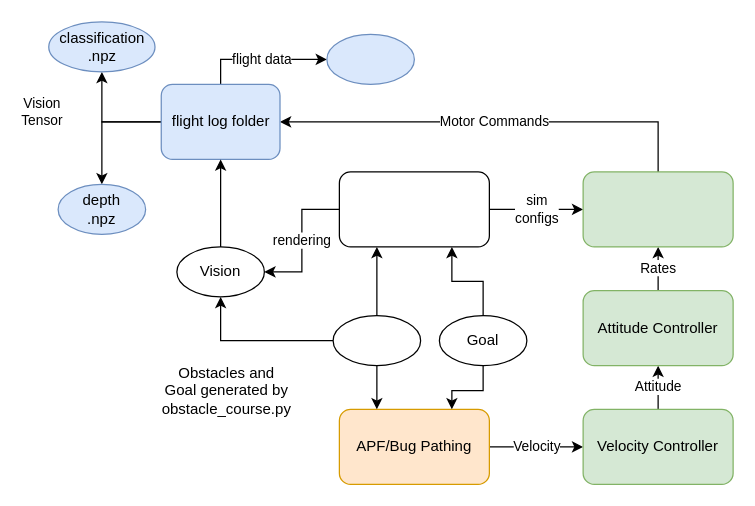
The diagram is 755 pixels wide and 506 high, and some of its shapes have lost their labels. Here are the shapes that lost their labels. From the top down, the centre of each, then its label:
At [370,58]: ".csv".
At [413,209]: "Simulation".
At [657,209]: "Rate Controller".
At [376,340]: "Obstacles".
